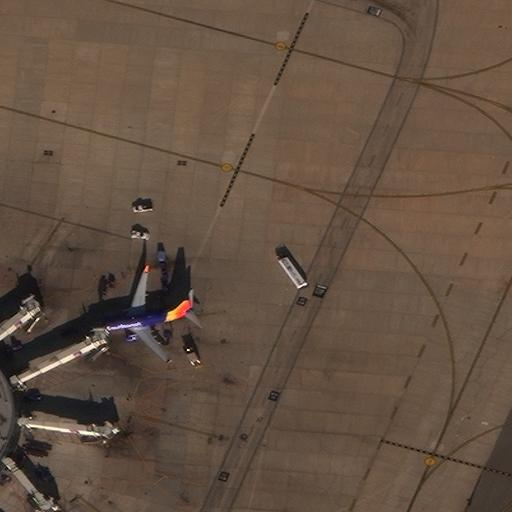Medium Civil Transport: (85, 267, 191, 363)
